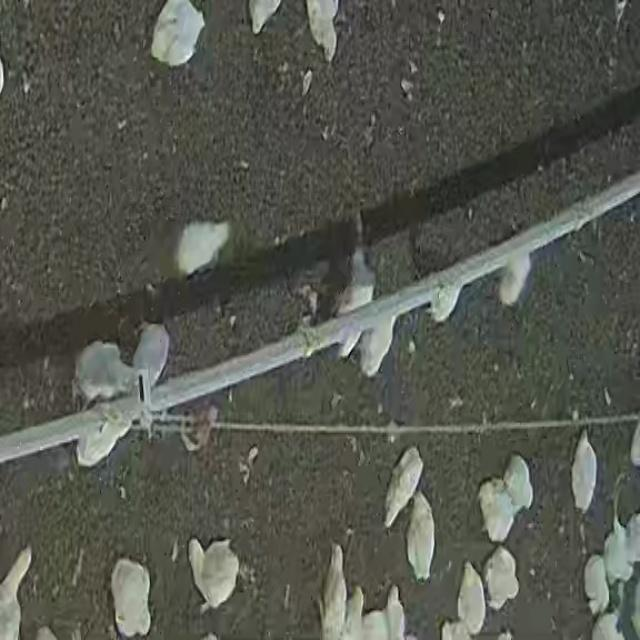chicken: (183, 534, 245, 614), (148, 0, 208, 70), (108, 556, 158, 638), (380, 444, 424, 530), (174, 217, 234, 280), (74, 339, 134, 401), (404, 488, 440, 586), (472, 473, 516, 545), (319, 534, 347, 640), (569, 428, 601, 514), (481, 545, 522, 610), (455, 559, 487, 635), (502, 450, 538, 511)
